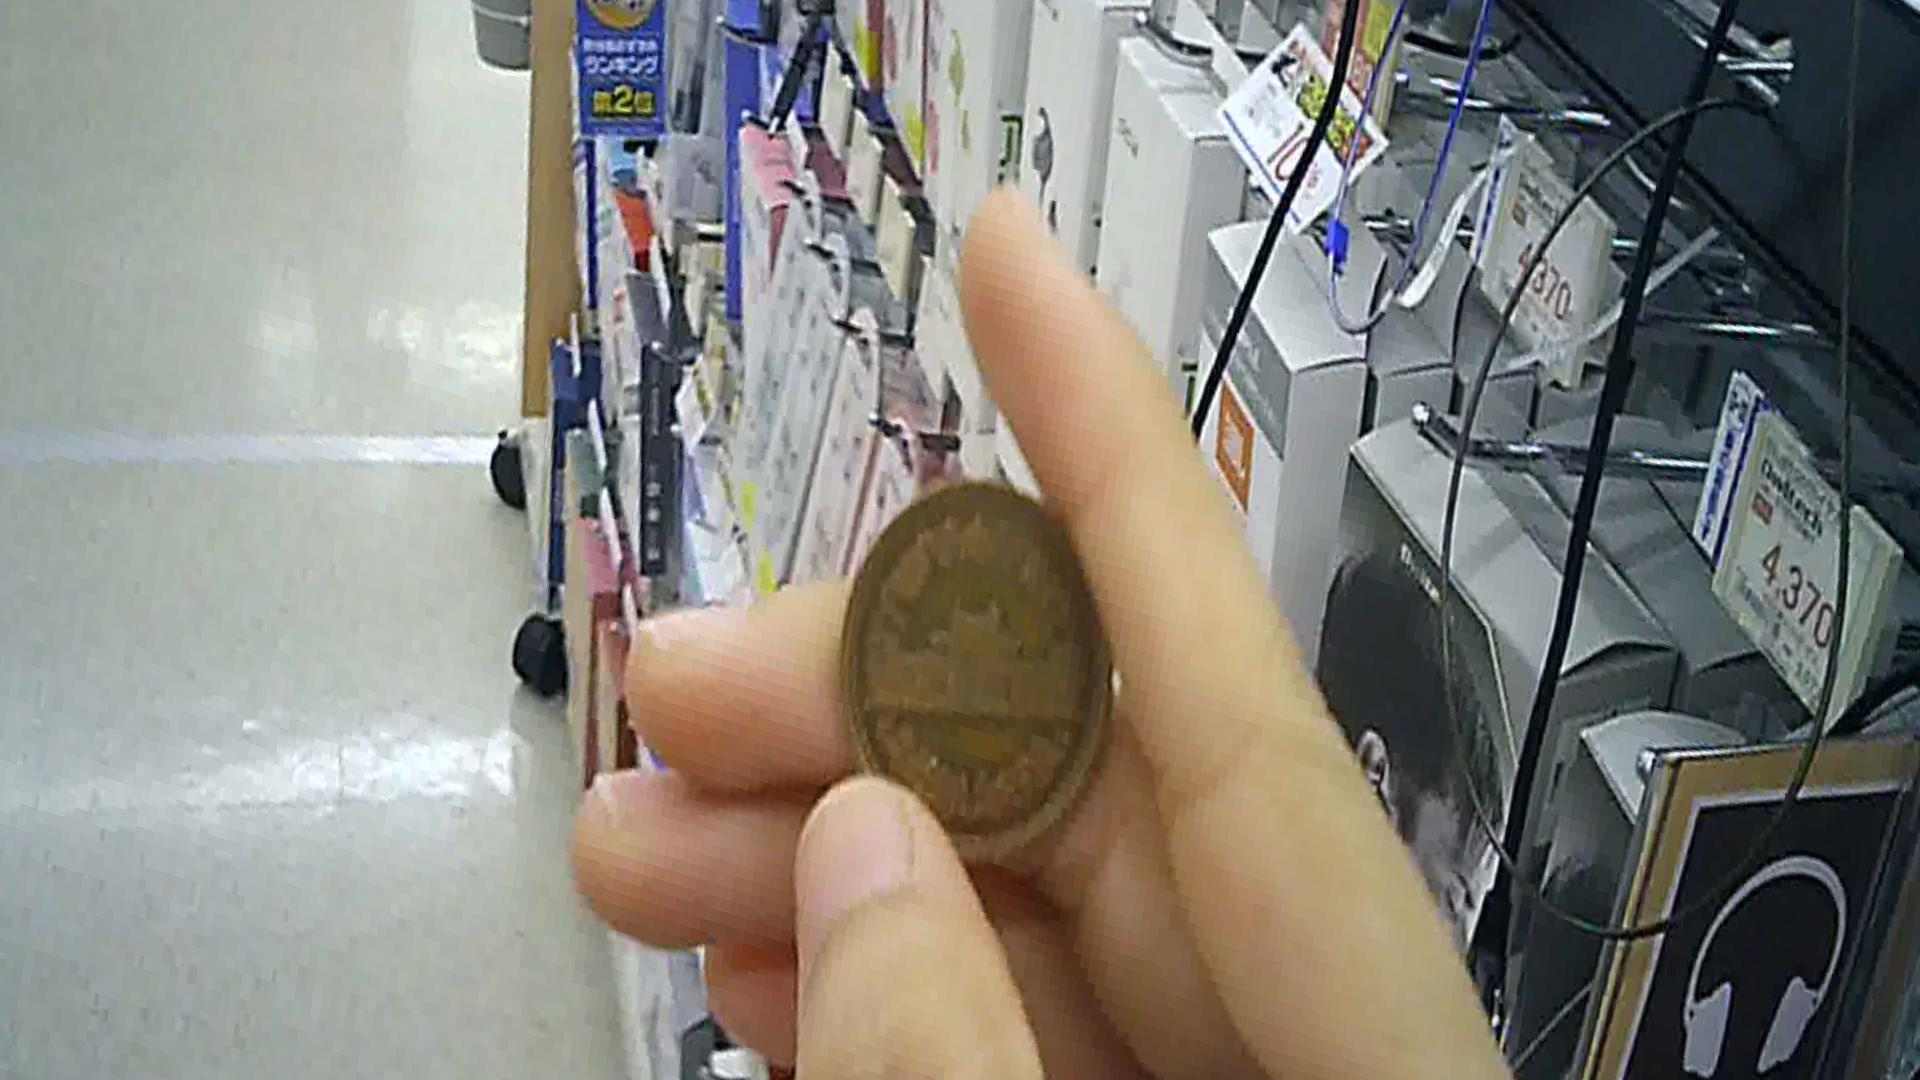10 Yen: (847, 483, 1116, 862)
